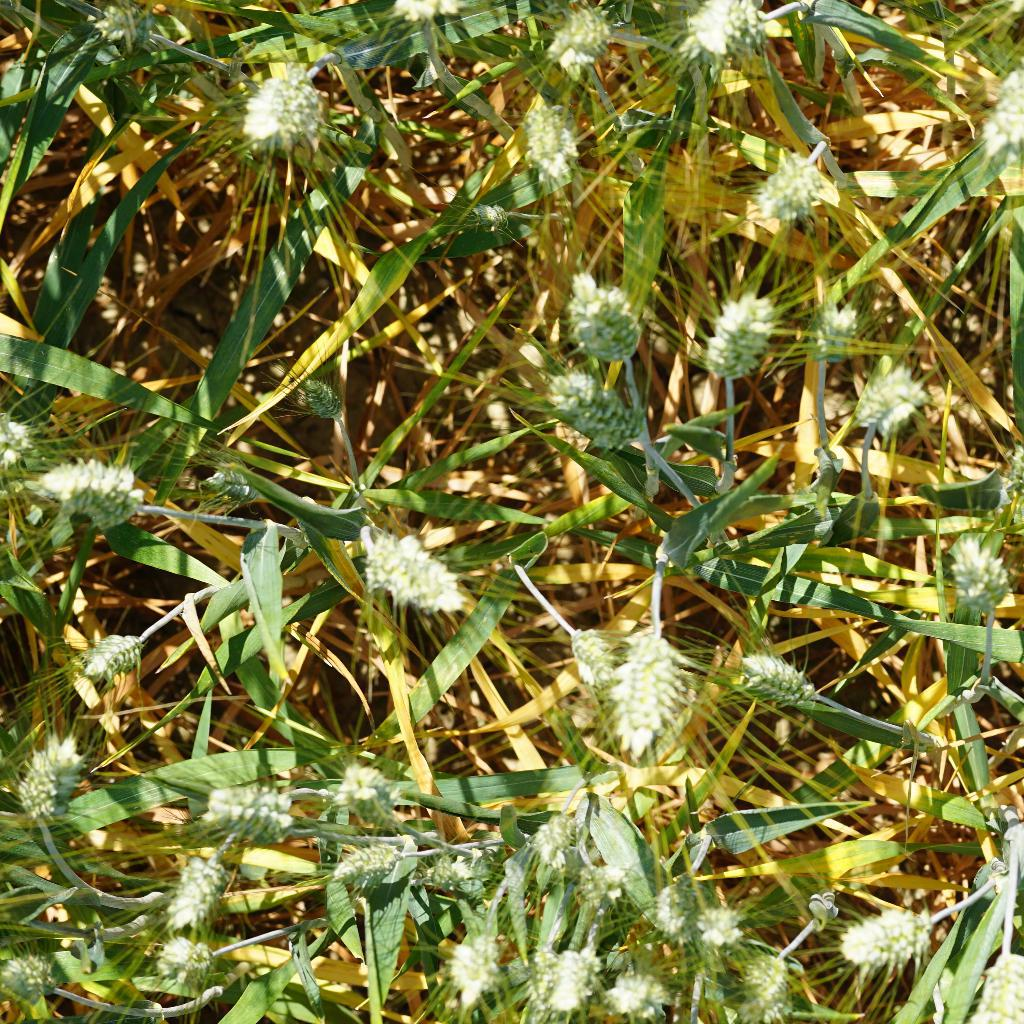0-0: (350, 520, 470, 613), (615, 610, 690, 755), (23, 452, 164, 529), (530, 366, 654, 449), (549, 271, 649, 369), (823, 890, 950, 967), (232, 55, 324, 149), (688, 287, 778, 380), (194, 766, 296, 845), (326, 751, 419, 834), (747, 137, 833, 219), (942, 533, 1024, 616), (157, 837, 238, 920), (518, 88, 582, 191), (851, 342, 915, 438), (728, 651, 815, 720), (66, 624, 156, 690), (509, 804, 590, 874), (66, 0, 160, 59), (549, 608, 620, 683), (538, 3, 621, 67), (10, 732, 64, 830), (448, 925, 508, 1011), (969, 930, 1024, 1023), (793, 294, 860, 369), (333, 834, 408, 901), (681, 0, 763, 60), (983, 49, 1024, 168), (739, 946, 803, 1021), (675, 893, 754, 953), (535, 948, 600, 1020), (630, 874, 690, 945), (423, 841, 497, 897), (564, 859, 634, 914), (288, 363, 352, 423), (197, 458, 277, 505), (3, 946, 59, 1008), (608, 963, 662, 1024), (156, 923, 213, 979), (458, 194, 526, 234), (382, 0, 464, 32), (48, 732, 85, 799), (1016, 0, 1024, 15)
